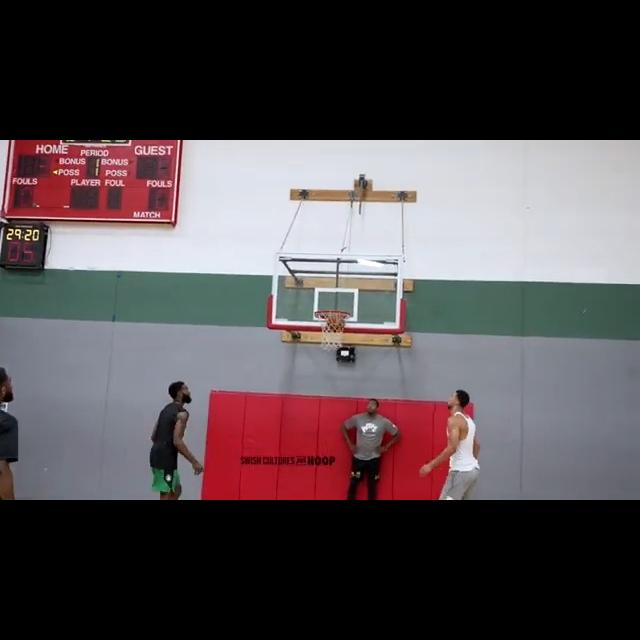hoop: (314, 309, 352, 352)
